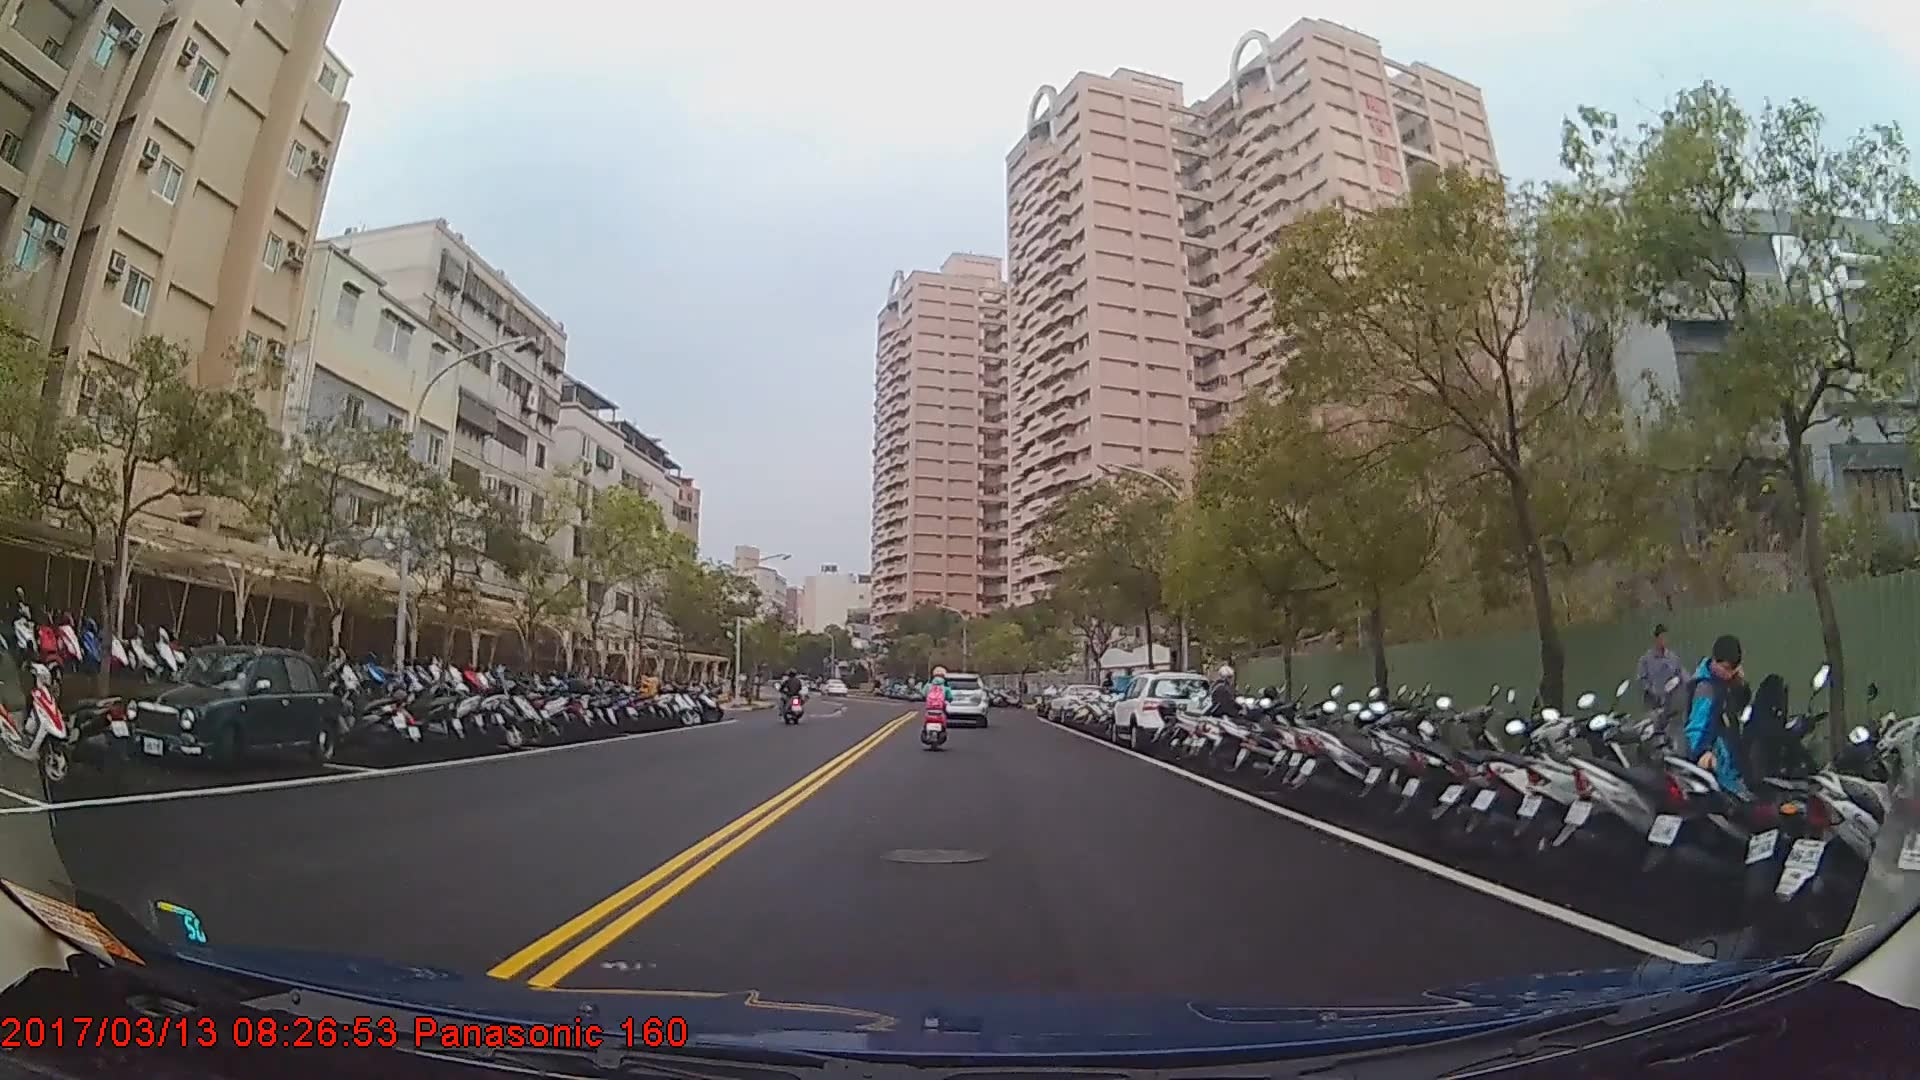pedestrian: (1675, 637, 1781, 886), (1635, 623, 1699, 779)
rider: (920, 669, 957, 753), (782, 671, 807, 732)
vehicle: (123, 645, 336, 781), (1110, 670, 1216, 755), (929, 678, 987, 732)
